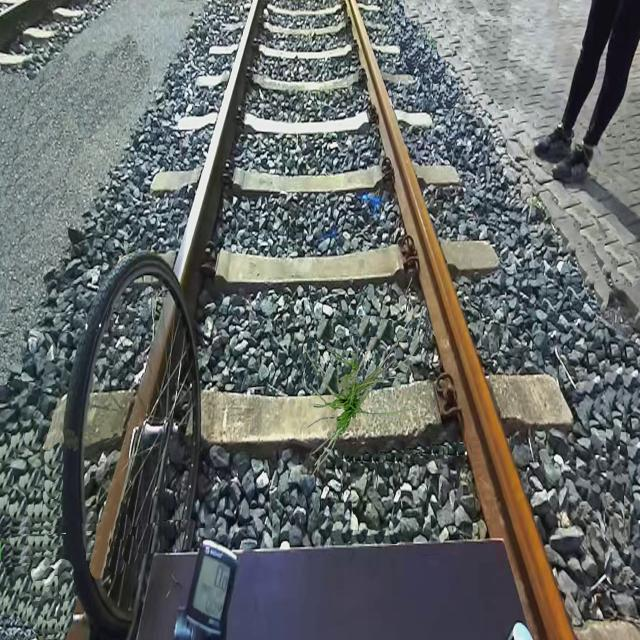Plant: (300, 314, 418, 478)
